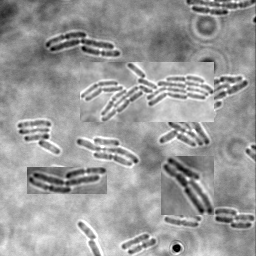Dividing: (128, 238, 157, 255), (164, 217, 200, 228), (192, 7, 229, 17), (166, 216, 202, 222)
Microcolony: (80, 62, 214, 122), (158, 76, 249, 147), (161, 156, 214, 215), (27, 167, 107, 194), (76, 137, 139, 168), (45, 32, 121, 57), (18, 120, 61, 155), (214, 208, 255, 229)
Rod: (121, 233, 150, 251), (78, 222, 99, 240)
